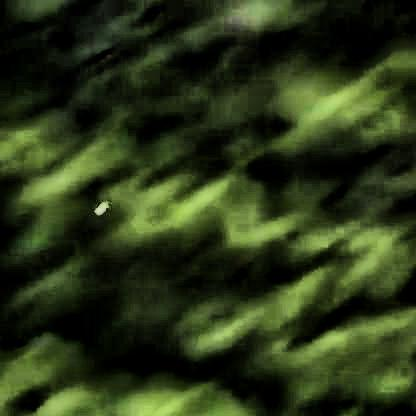golfball: (89, 201, 108, 217)
